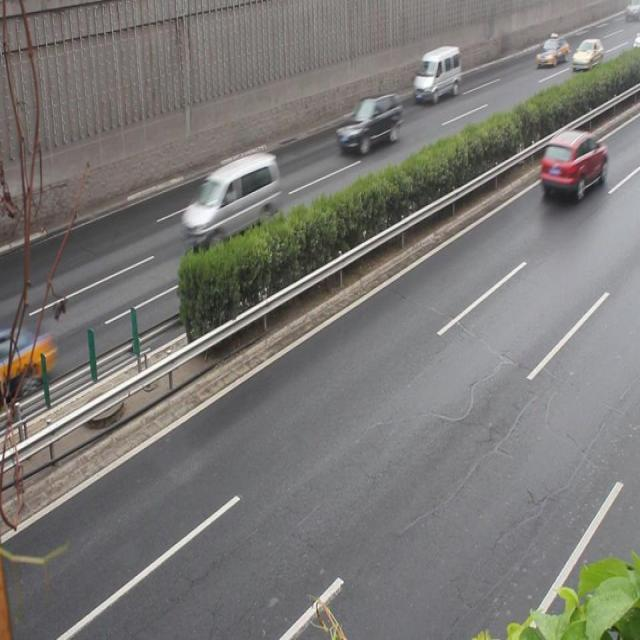car: (539, 131, 607, 198), (337, 93, 400, 154), (1, 324, 55, 394)
truck: (185, 152, 278, 239), (412, 44, 459, 99)
